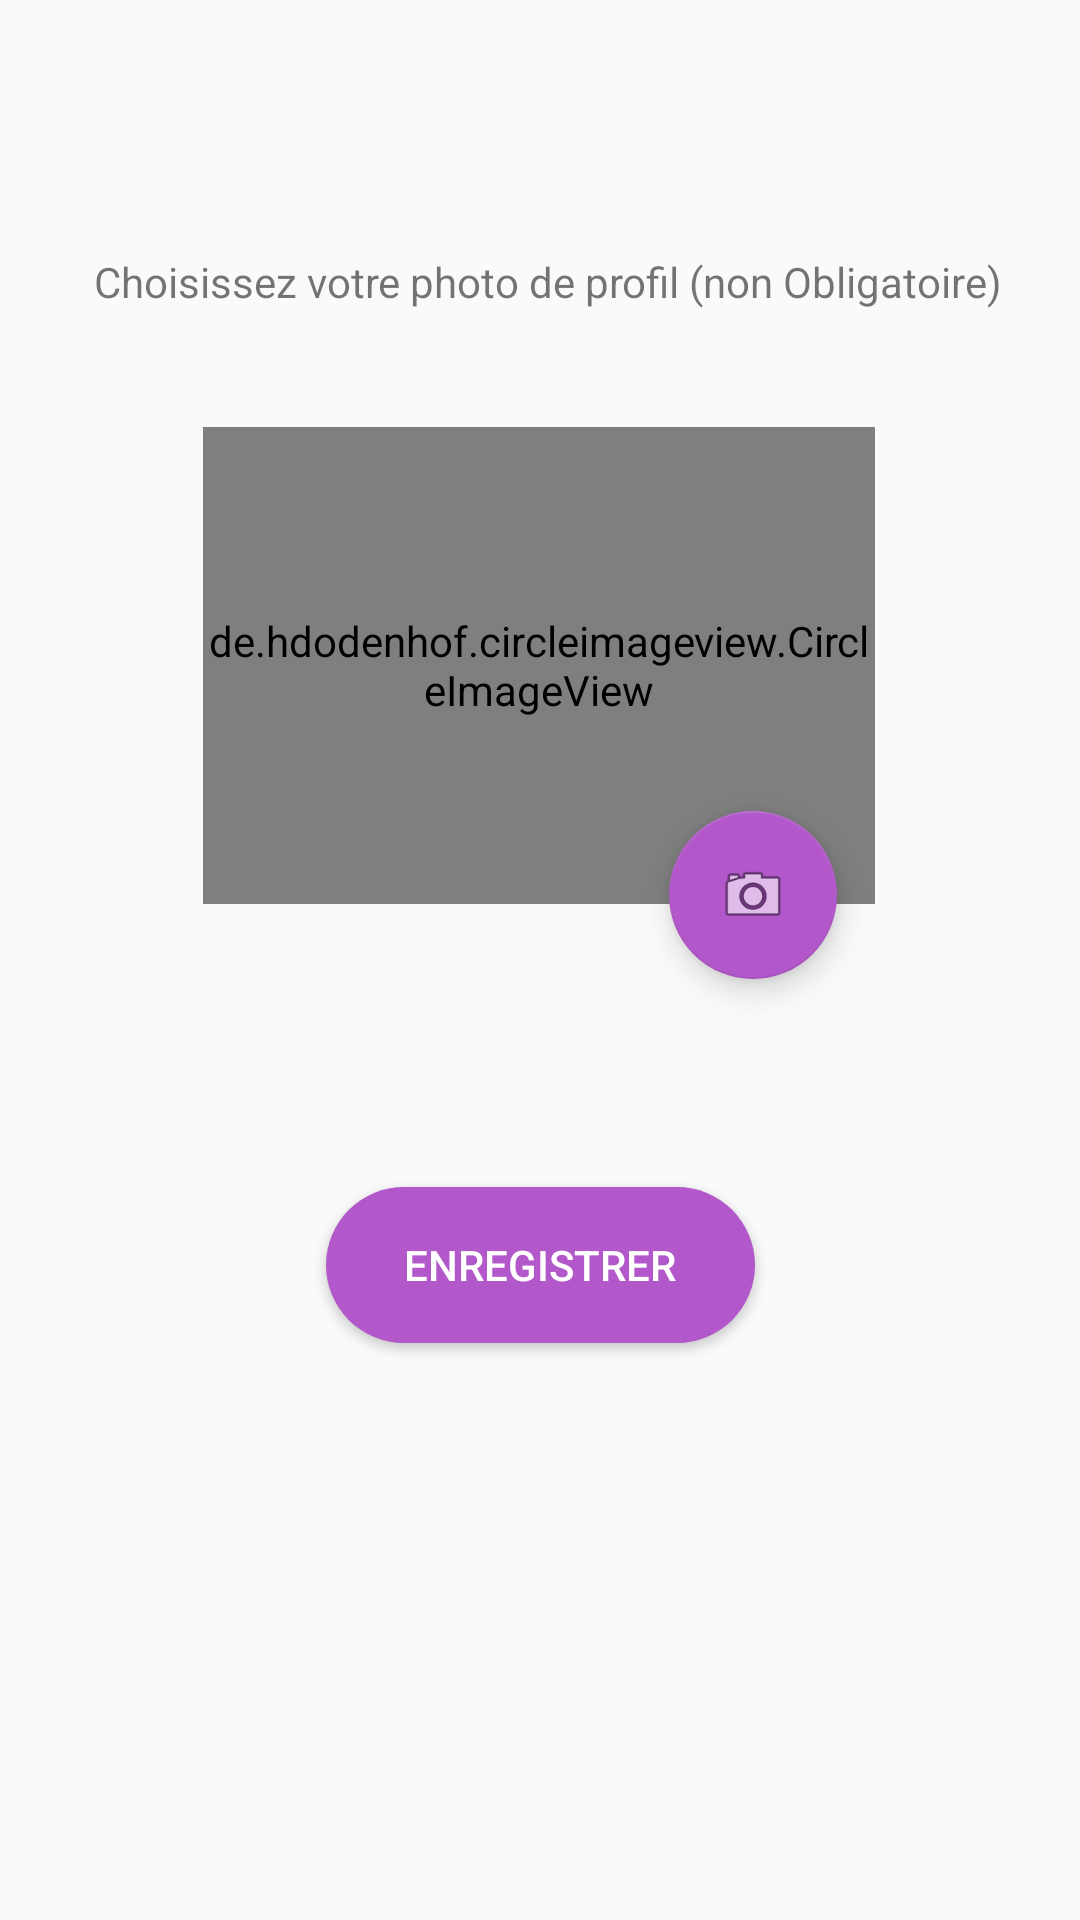

Icons on this 1080px x 1920px Android screen, each with the point to tap as (x,y):
camera: (753,895)
